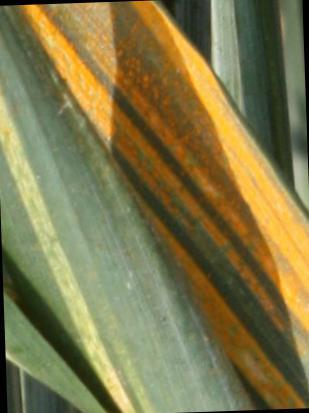Wheat: (224, 92, 309, 331), (22, 7, 111, 144)
